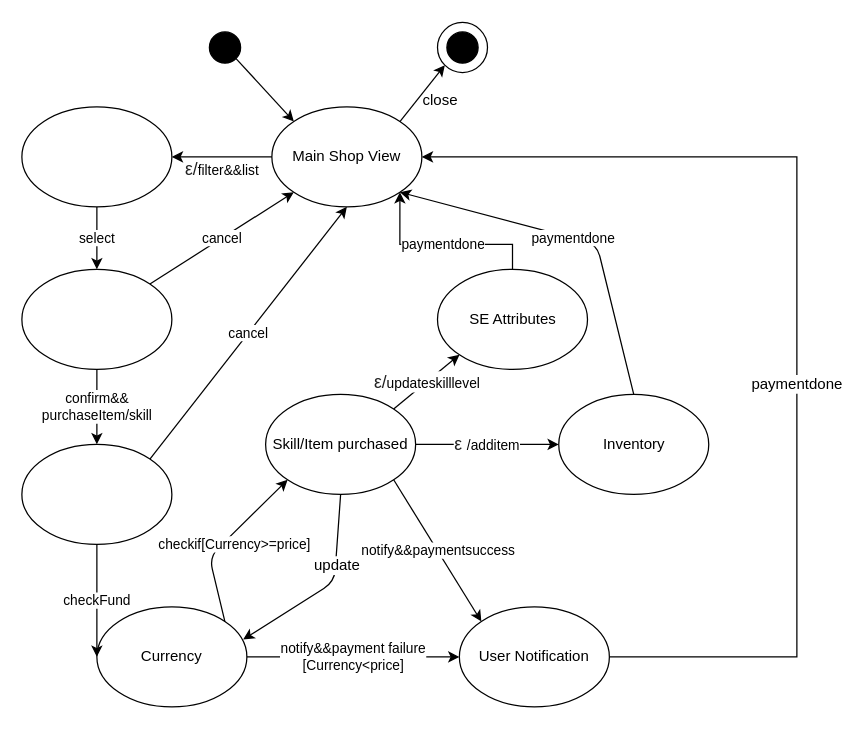
This 864x729 diagram has some shape labels left out. Each missing label, with the centre of its shape:
"Payment process" goes at (x=96, y=493).
"Skill/Item list" goes at (x=96, y=156).
"Skill/Item selected" goes at (x=96, y=318).
